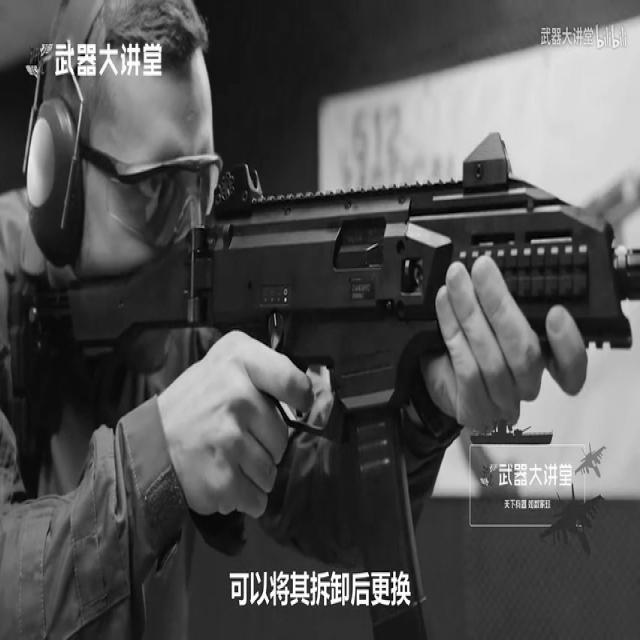Sub-machine-gun: (2, 166, 635, 620)
